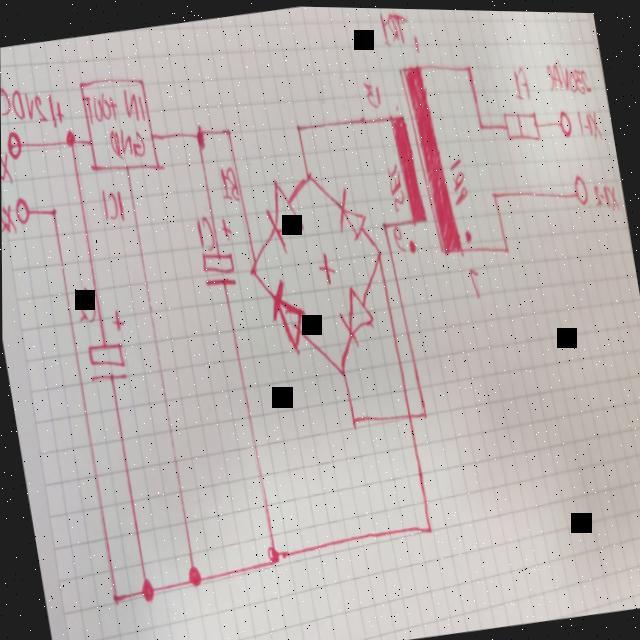capacitor: (78, 305, 136, 386), (193, 212, 241, 291)
crossover: (405, 405, 413, 420)
diode: (259, 169, 309, 257), (262, 272, 312, 355), (333, 277, 377, 349), (332, 181, 370, 242)
junction: (137, 571, 155, 603), (185, 559, 203, 587), (62, 123, 78, 150), (193, 121, 207, 148), (266, 540, 281, 563), (336, 357, 348, 378), (246, 258, 259, 276), (302, 164, 314, 182), (348, 410, 359, 429), (372, 240, 383, 259), (110, 587, 120, 605), (475, 114, 485, 130), (463, 56, 473, 72), (500, 238, 510, 253), (489, 184, 499, 199), (224, 121, 233, 137), (379, 215, 388, 230), (424, 518, 433, 533), (49, 202, 58, 217), (419, 402, 428, 417), (294, 119, 303, 133)
terminal: (9, 188, 34, 230), (1, 123, 26, 164), (569, 166, 590, 205), (555, 102, 574, 137)
text: (0, 71, 66, 133), (544, 50, 593, 98), (107, 121, 147, 161), (81, 84, 118, 124), (376, 7, 410, 48), (384, 156, 408, 211), (119, 81, 147, 125), (215, 158, 242, 203), (98, 182, 126, 225), (446, 152, 470, 202), (589, 174, 621, 211), (313, 244, 339, 289), (72, 281, 98, 324), (576, 101, 603, 140), (193, 210, 218, 252), (510, 58, 532, 100), (1, 194, 19, 239), (361, 73, 382, 108), (1, 140, 13, 187), (390, 219, 407, 252), (467, 260, 482, 296), (410, 26, 422, 54)
transformer: (371, 46, 476, 261)
